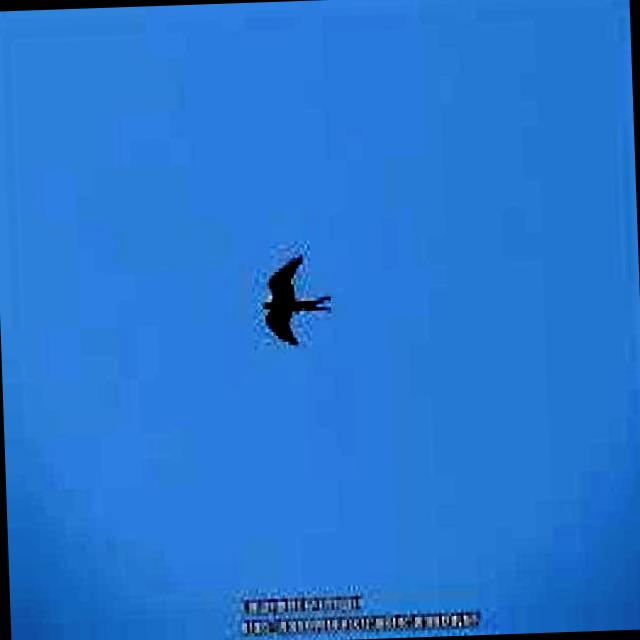bird: (257, 246, 334, 351)
